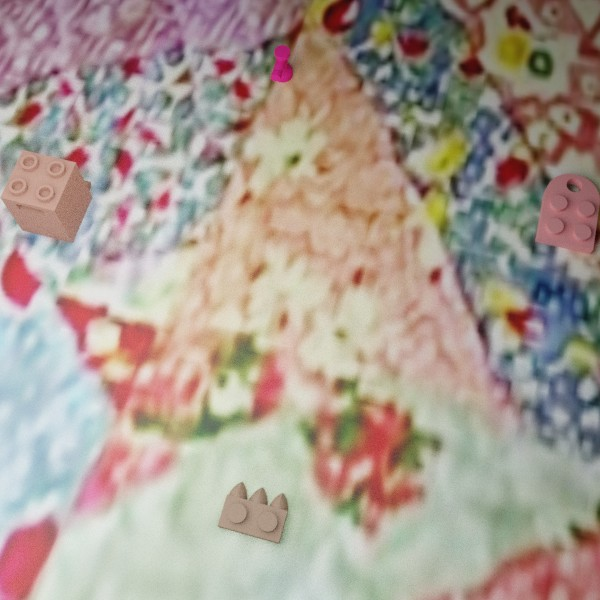lego: (0, 149, 92, 243), (535, 173, 600, 254), (217, 481, 288, 544), (270, 45, 292, 82)
